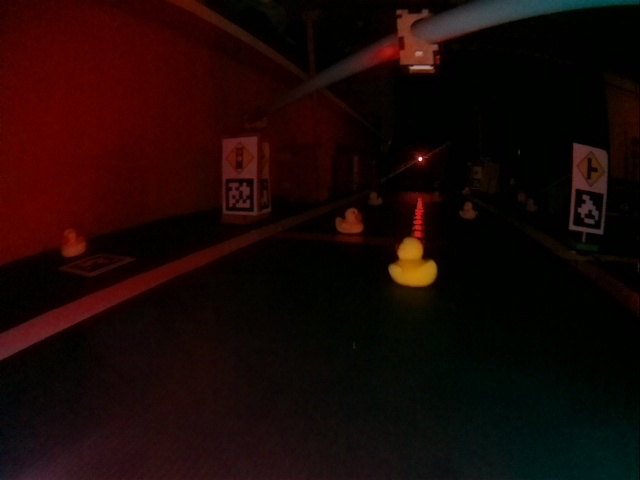Duckie: (390, 238, 437, 284), (335, 209, 363, 233), (61, 229, 84, 255), (460, 202, 473, 217), (368, 193, 378, 203)
Intersection sign: (572, 144, 607, 185)
QR code: (59, 253, 133, 277), (572, 188, 605, 229), (223, 178, 255, 213), (259, 178, 271, 212)
Signal sign: (225, 140, 254, 174)
Traffic light: (398, 12, 439, 71), (416, 154, 423, 164)
